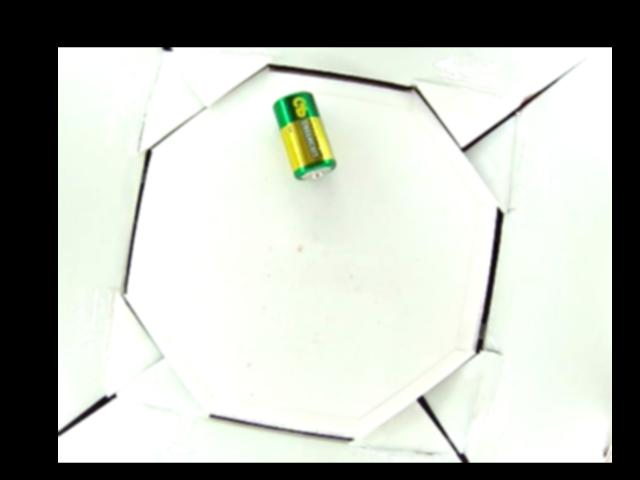Battery: (271, 91, 338, 181)
